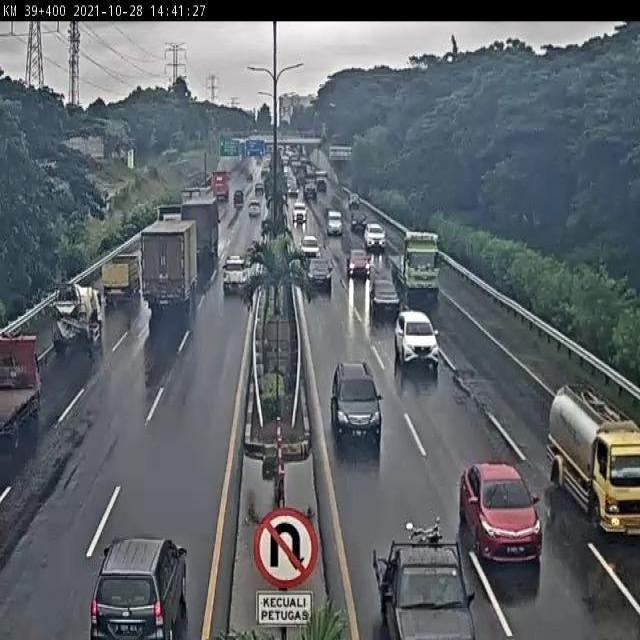car: (90, 536, 190, 640), (458, 461, 542, 564), (329, 361, 382, 444), (394, 310, 440, 370), (368, 280, 401, 319), (222, 255, 249, 292), (304, 257, 332, 292), (345, 249, 371, 279)
mid truck: (139, 219, 199, 304), (181, 195, 220, 256)
small truck: (370, 524, 474, 640), (100, 253, 141, 300)
truck-l-: (388, 226, 441, 294)
truck-m-: (548, 384, 640, 539), (49, 282, 104, 346)
